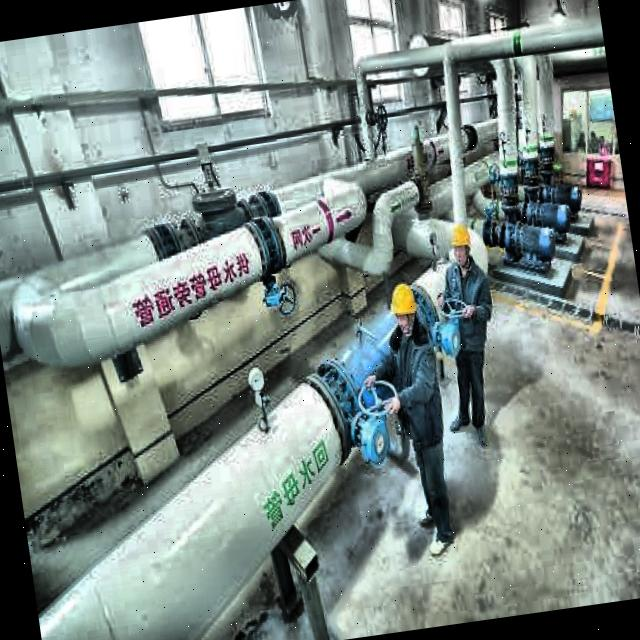helmet: (388, 276, 424, 346), (446, 220, 476, 274)
